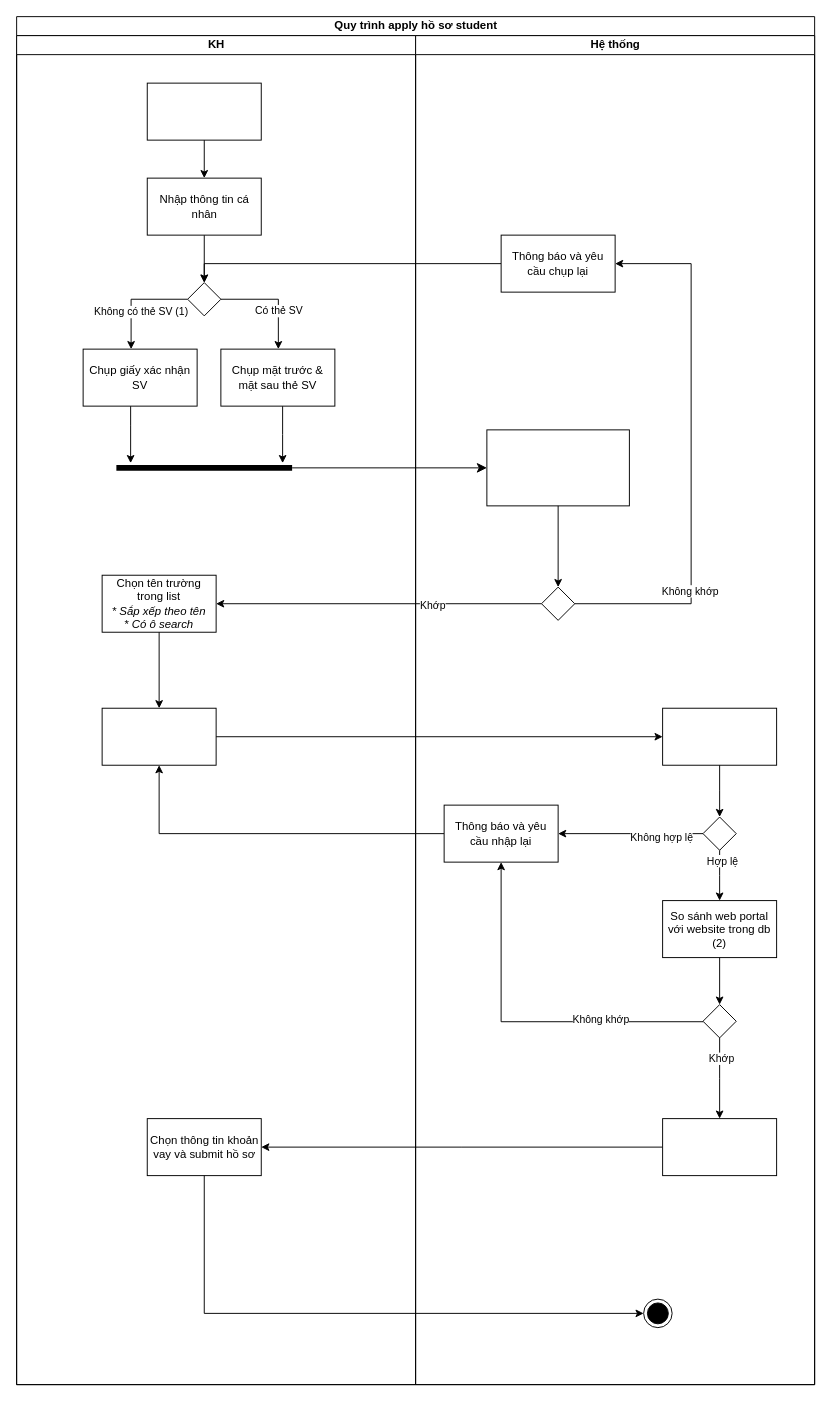
Image size: 831x1401. Some labels were removed from this diagram. Here are the shapes that lost their labels. From the top down, the centre of each, then its label:
At point 203,111: "Chụp mặt trước & mặt sau CMND".
At point 557,467: "OCR khuôn mặt so khớp giữa thẻ SV/ giấy xác nhận SV và CMND".
At point 158,736: "Điền web portal, username, password".
At point 719,736: "Kiểm tra link hợp lệ".
At point 719,1147: "Đề nghị khoản vay phù hợp".
